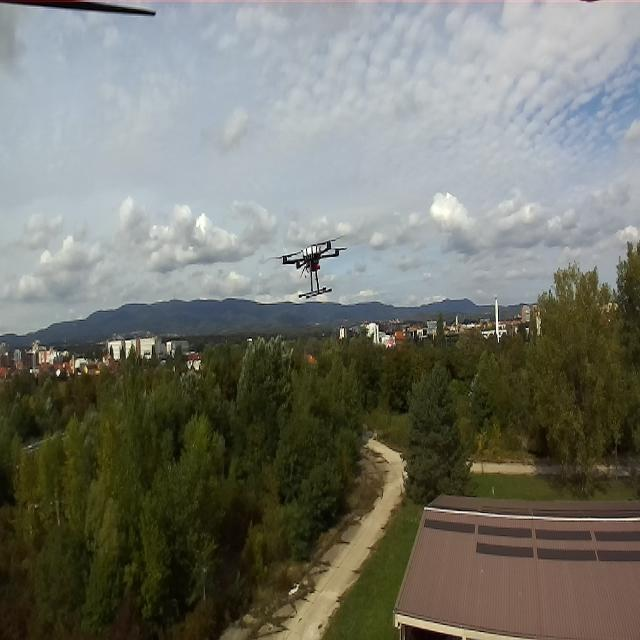UAV: (267, 230, 351, 300)
